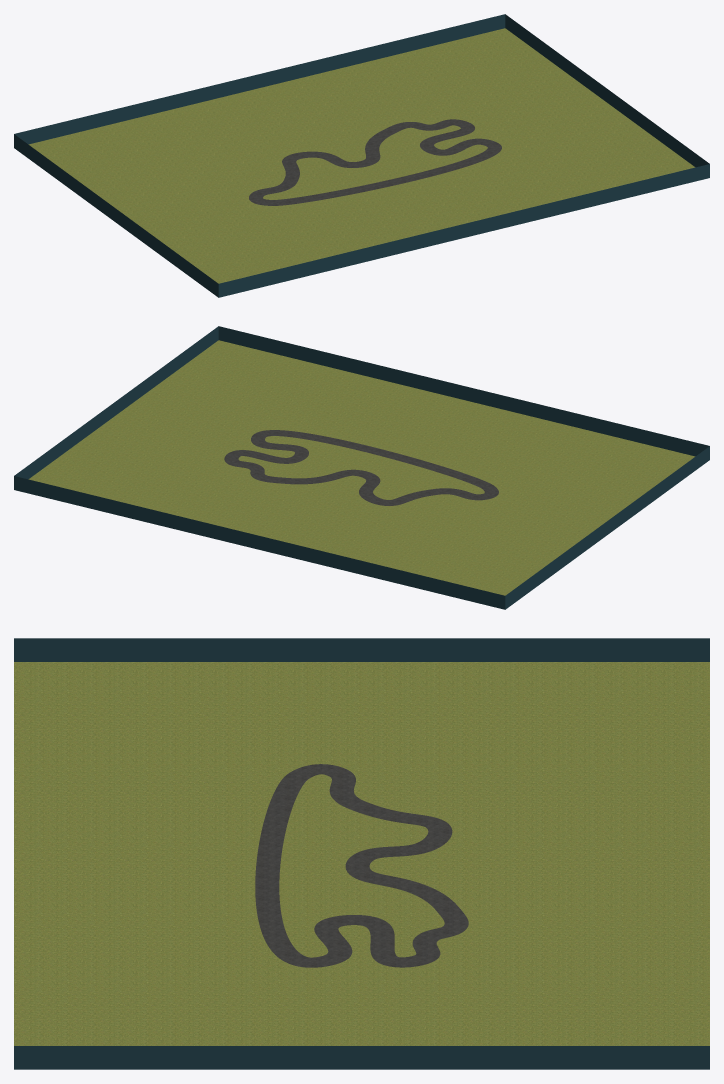
File: FS_June2020_collisions.dae
3 views of the same model, one above another, from view 1: azimuth 30°, elevation 25°; view 2: azimuth 150°, elevation 25°; view 3: azimuth 270°, elevation 25° (orthographic). The views are drawn at different scales.
Visible parts, largest first — view 1: field, wall, road; view 2: field, wall, road; view 3: field, wall, road.
Part boxes in pixels (x1,y1,x2,y2): field: (28,28,695,283); wall: (14,14,709,297); road: (249,119,501,205); field: (28,340,695,595); wall: (14,326,709,609); road: (224,430,498,505); field: (14,662,709,1045); wall: (14,638,709,1069); road: (255,764,468,967).
Bounding box in the file's own units: 36.55 × 26.37 × 1.
Materials: 3 (3 with a texture image).
